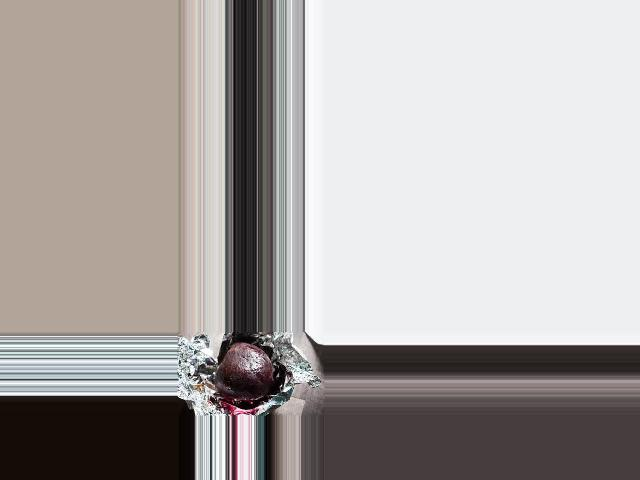beet: (213, 342, 274, 398)
